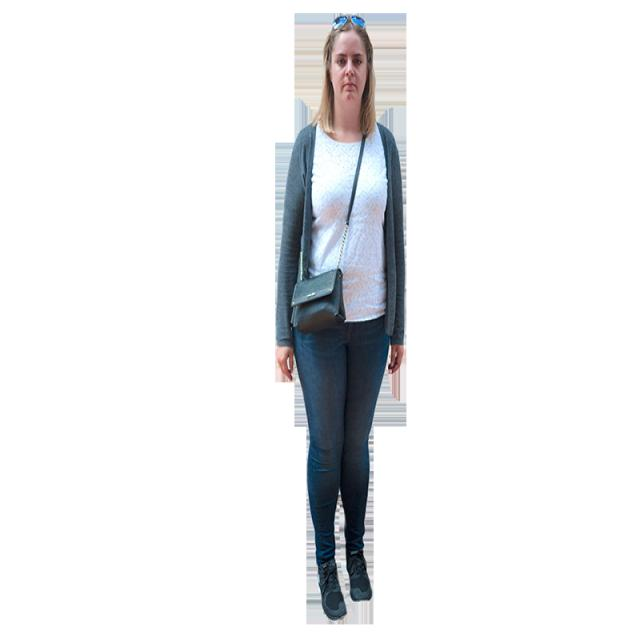jovem: (273, 12, 417, 630)
